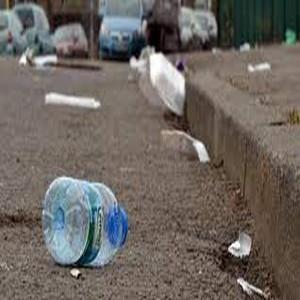Plastic: (40, 171, 130, 269)
